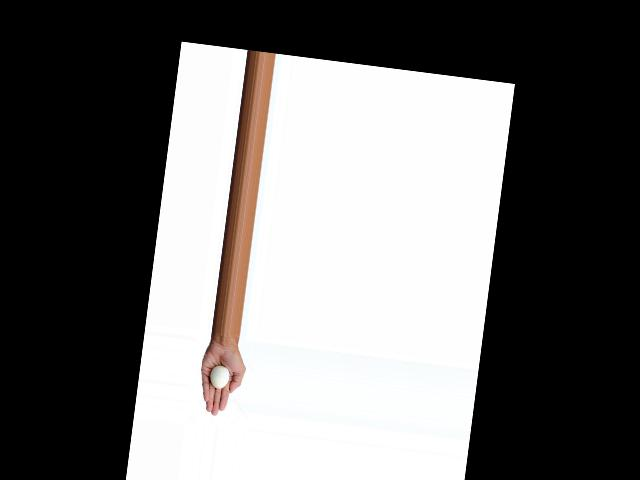egg: (208, 364, 229, 390)
